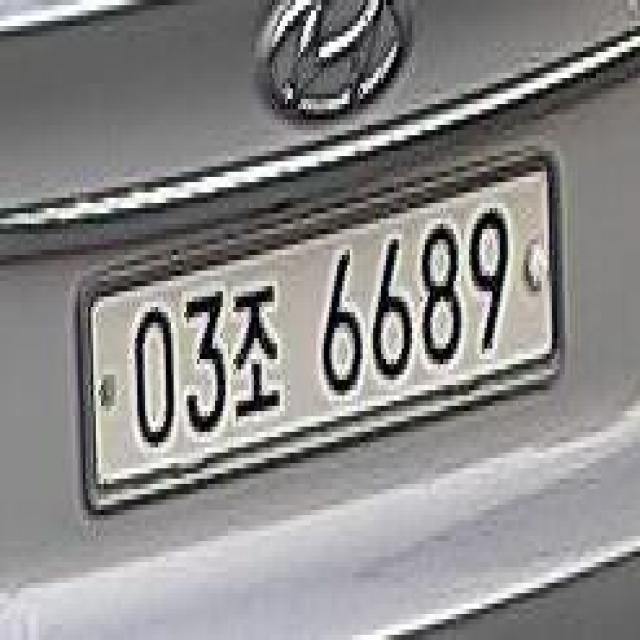illegal_plate: (76, 148, 564, 527)
